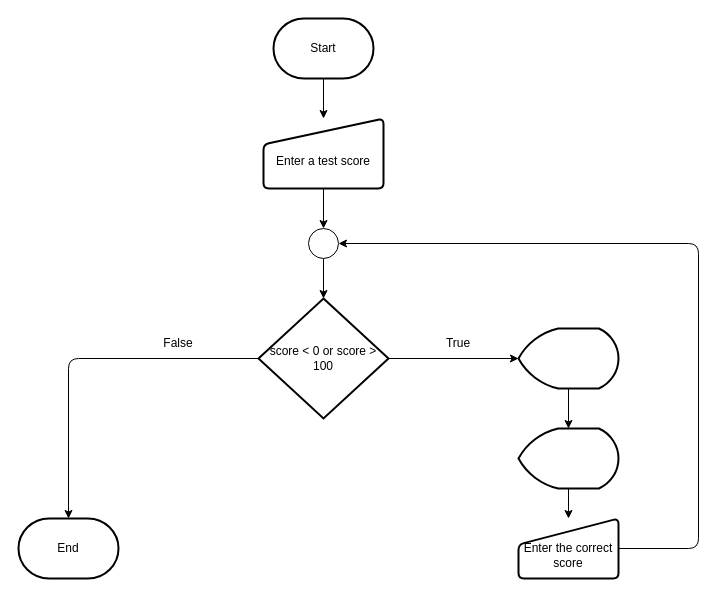
Some shapes in this 724 by 596 pixel diagram are drawn without their labels. Here are the shapes that lost their labels. From the top down, the box of each, then its label:
(517, 327, 619, 389): ERROR: The score cannot be negative
(517, 427, 619, 489): or greater that 100.
